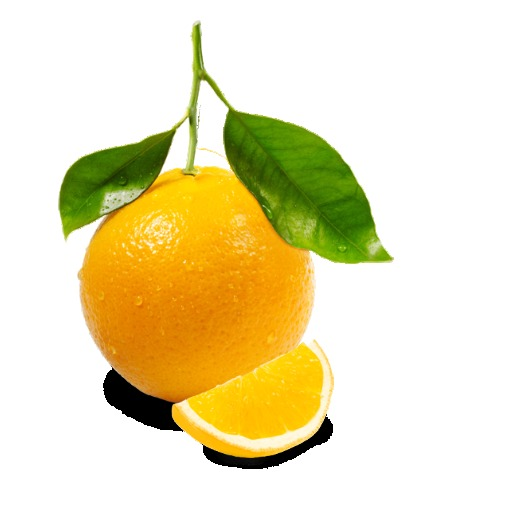orange: (87, 162, 311, 404)
